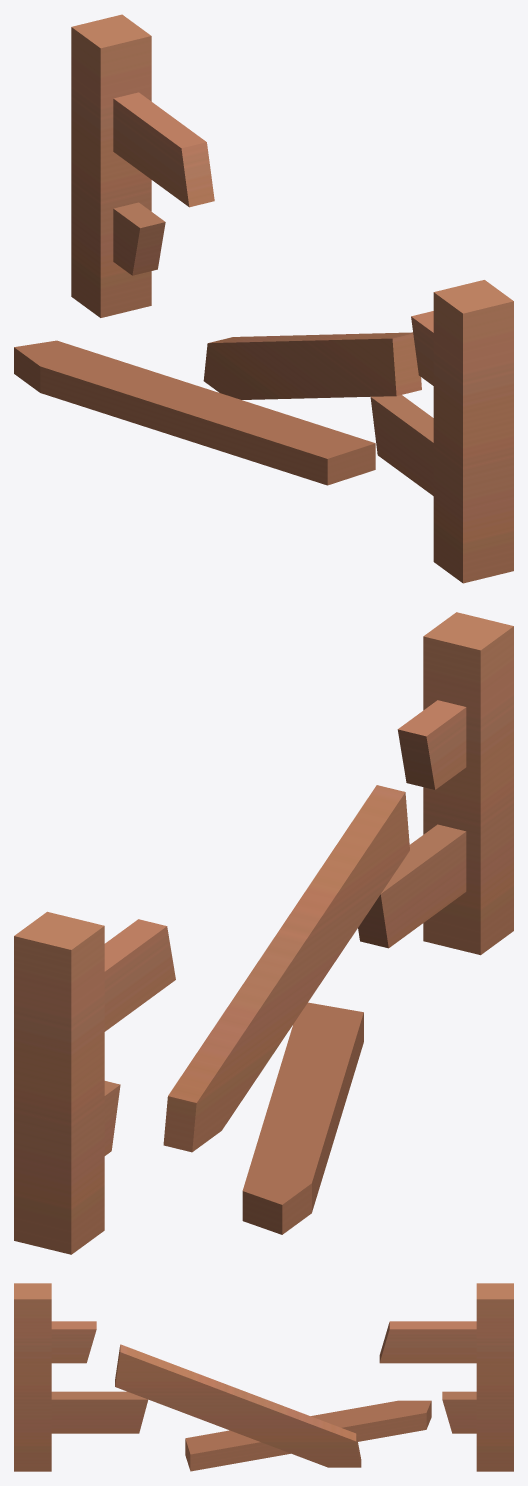
Rendered from fence-broken.glb.
3 renders of one model, top to bottom at view 1: azimuth 30°, elevation 25°; view 2: azimuth 150°, elevation 25°; view 3: azimuth 270°, elevation 25°, orthographic. The views are drawn at different scales.
Parts seen in each view (by area): view 1: fence-broken; view 2: fence-broken; view 3: fence-broken.
Part boxes in pixels (x1,y1,x2,y2): fence-broken: (14, 14, 513, 583); fence-broken: (14, 612, 513, 1254); fence-broken: (14, 1283, 513, 1471).
Size of the model in its own units: 0.2547 by 0.38 by 1.
Materials: 1 (1 with a texture image).
